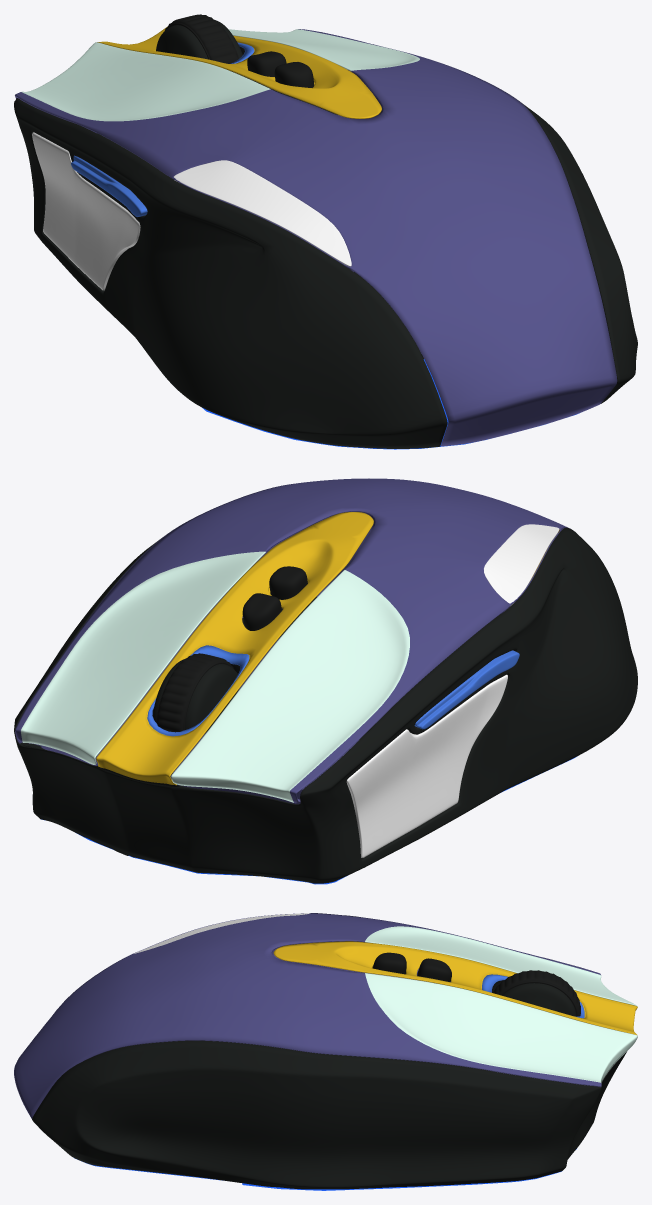
The model's file is mouse.gltf.
3 renders of one model, top to bottom at view 1: azimuth 30°, elevation 25°; view 2: azimuth 150°, elevation 25°; view 3: azimuth 270°, elevation 25°, orthographic. The views are drawn at different scales.
Parts seen in each view (by area): view 1: MouseThermaltakeBlack.015, MouseThermaltakeBlack.003, MouseThermaltakeBlack.001, MouseThermaltakeBlack, MouseThermaltakeBlack.002, MouseThermaltakeBlack.008, MouseThermaltakeBlack.007, MouseThermaltakeBlack.004; view 2: MouseThermaltakeBlack.003, MouseThermaltakeBlack.015, MouseThermaltakeBlack.001, MouseThermaltakeBlack, MouseThermaltakeBlack.008, MouseThermaltakeBlack.002, MouseThermaltakeBlack.004, MouseThermaltakeBlack.007, MouseThermaltakeBlack.012, MouseThermaltakeBlack.013; view 3: MouseThermaltakeBlack.003, MouseThermaltakeBlack.015, MouseThermaltakeBlack.008, MouseThermaltakeBlack, MouseThermaltakeBlack.005, MouseThermaltakeBlack.001, MouseThermaltakeBlack.004, MouseThermaltakeBlack.007.
Boxes of the visible parts, x1,y1,x2,y2 form: MouseThermaltakeBlack.015: [15, 29, 617, 446]; MouseThermaltakeBlack.003: [14, 26, 637, 448]; MouseThermaltakeBlack.001: [174, 160, 351, 266]; MouseThermaltakeBlack: [165, 14, 243, 76]; MouseThermaltakeBlack.002: [71, 155, 147, 216]; MouseThermaltakeBlack.008: [156, 20, 248, 78]; MouseThermaltakeBlack.007: [274, 62, 314, 87]; MouseThermaltakeBlack.004: [247, 51, 286, 76]; MouseThermaltakeBlack.003: [14, 512, 637, 883]; MouseThermaltakeBlack.015: [15, 478, 570, 803]; MouseThermaltakeBlack.001: [484, 524, 559, 605]; MouseThermaltakeBlack: [156, 653, 233, 732]; MouseThermaltakeBlack.008: [153, 658, 237, 729]; MouseThermaltakeBlack.002: [414, 650, 519, 729]; MouseThermaltakeBlack.004: [242, 593, 281, 630]; MouseThermaltakeBlack.007: [269, 566, 307, 599]; MouseThermaltakeBlack.012: [97, 511, 375, 801]; MouseThermaltakeBlack.013: [15, 731, 302, 804]; MouseThermaltakeBlack.003: [32, 915, 637, 1189]; MouseThermaltakeBlack.015: [14, 913, 637, 1118]; MouseThermaltakeBlack.008: [502, 983, 576, 1016]; MouseThermaltakeBlack: [492, 970, 580, 1016]; MouseThermaltakeBlack.005: [74, 1149, 576, 1190]; MouseThermaltakeBlack.001: [134, 913, 309, 953]; MouseThermaltakeBlack.004: [417, 958, 451, 982]; MouseThermaltakeBlack.007: [372, 952, 406, 974].
Size of the model in its own units: 8.27 by 4.05 by 13.83.
